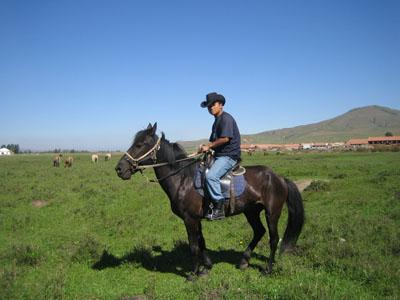person: (193, 92, 242, 222)
